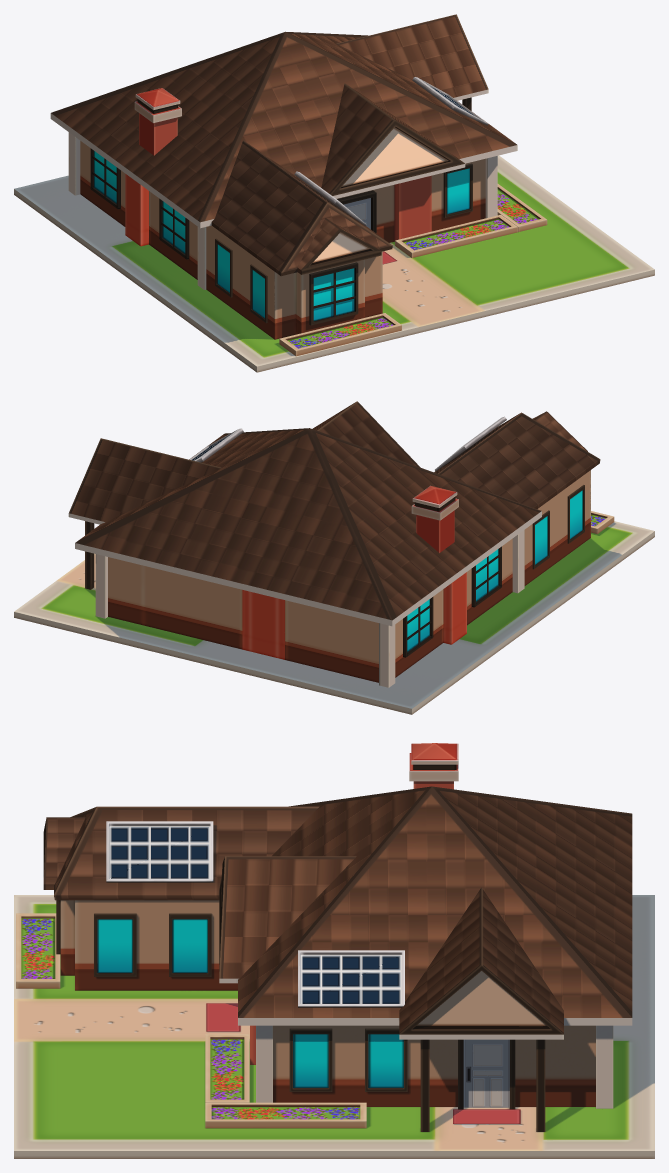
The picture shows the model from 3 angles, top to bottom: view 1: azimuth 30°, elevation 25°; view 2: azimuth 150°, elevation 25°; view 3: azimuth 270°, elevation 25°; orthographic projection. The views are drawn at different scales.
Visible parts, largest first — view 1: Main_Building_PH_2, Floor_T2_PH_2, polySurface2, polySurface1, polySurface3, flower_bed1_PH_2, flower_bed_PH_2, polySurface4, flower_bed2_PH_2, polySurface5, solar_panel1_PH_2, polySurface14 (+1 smaller); view 2: Main_Building_PH_2, Floor_T2_PH_2, polySurface2, polySurface1, polySurface16, polySurface14, solar_panel1_PH_2, polySurface3; view 3: Main_Building_PH_2, Floor_T2_PH_2, polySurface2, polySurface1, solar_panel_PH_2, solar_panel1_PH_2, flower_bed2_PH_2, flower_bed1_PH_2, flower_bed_PH_2, polySurface10, polySurface12, polySurface3 (+2 smaller).
Boxes of the visible parts, box(x1,y1,x2,y2) form: Main_Building_PH_2: box(50, 14, 517, 289); Floor_T2_PH_2: box(14, 155, 654, 372); polySurface2: box(211, 140, 392, 276); polySurface1: box(206, 225, 382, 339); polySurface3: box(297, 218, 381, 274); flower_bed1_PH_2: box(279, 313, 401, 356); flower_bed_PH_2: box(395, 215, 517, 257); polySurface4: box(313, 268, 354, 320); flower_bed2_PH_2: box(497, 184, 547, 231); polySurface5: box(309, 262, 358, 325); solar_panel1_PH_2: box(412, 77, 488, 125); polySurface14: box(217, 244, 229, 292); Main_Building_PH_2: box(68, 401, 541, 687); Floor_T2_PH_2: box(14, 521, 654, 714); polySurface2: box(434, 412, 600, 508); polySurface1: box(524, 470, 590, 585); polySurface16: box(570, 490, 582, 539); polySurface14: box(535, 516, 547, 564); solar_panel1_PH_2: box(189, 428, 243, 462); polySurface3: box(532, 411, 587, 451); Main_Building_PH_2: box(206, 743, 632, 1131); Floor_T2_PH_2: box(14, 895, 654, 1158); polySurface2: box(54, 806, 319, 900); polySurface1: box(60, 900, 237, 990); solar_panel_PH_2: box(106, 821, 213, 882); solar_panel1_PH_2: box(298, 950, 404, 1007); flower_bed2_PH_2: box(205, 1102, 366, 1128); flower_bed1_PH_2: box(16, 913, 60, 988); flower_bed_PH_2: box(205, 1034, 249, 1102); polySurface10: box(97, 919, 132, 972); polySurface12: box(172, 919, 207, 972); polySurface3: box(43, 817, 85, 889).
Bounding box in the file's own units: 49.53 × 21.32 × 52.38.
